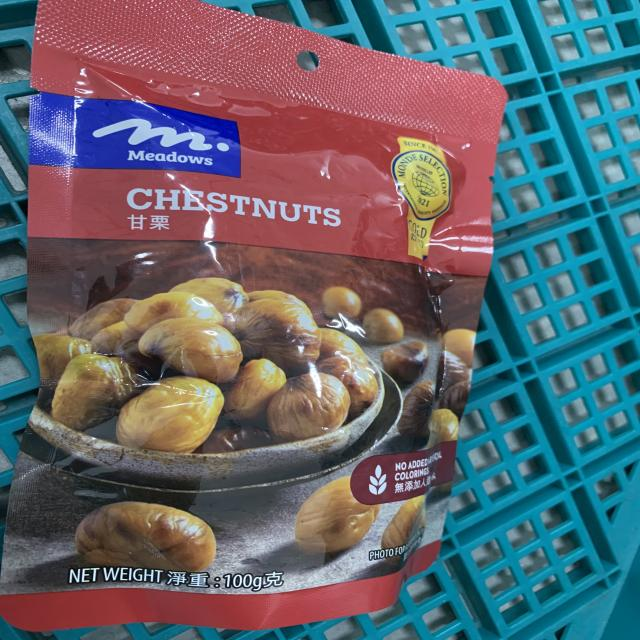object_name: (40, 0, 470, 628)
